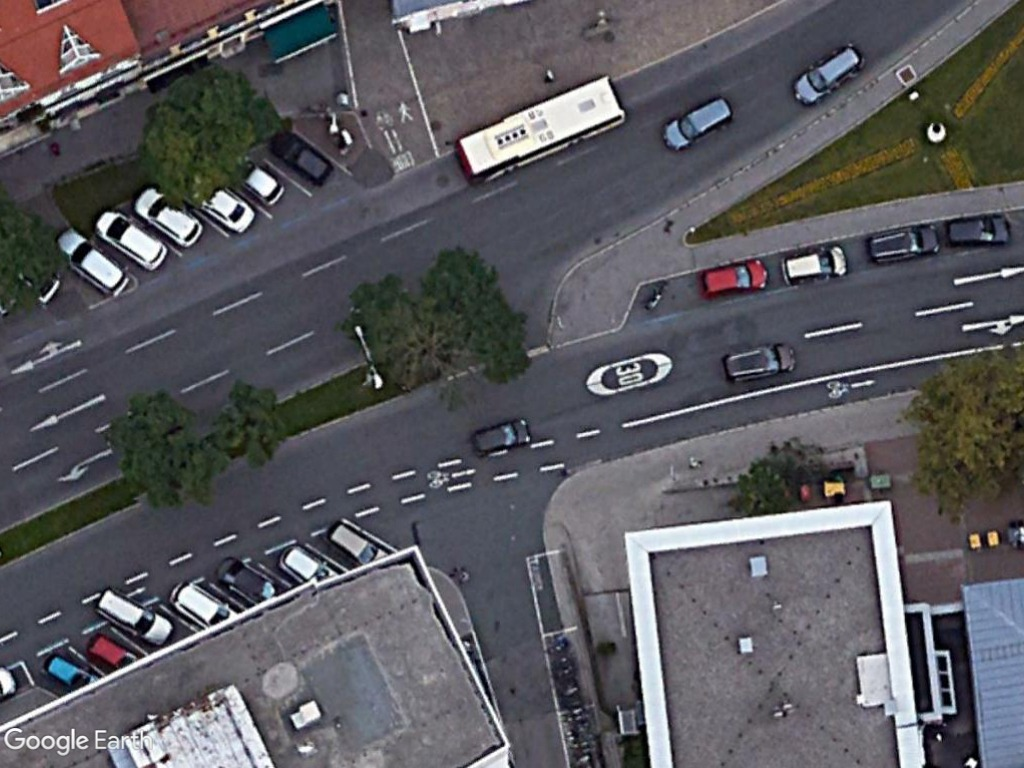bus: (449, 71, 627, 189)
car: (52, 224, 133, 300), (93, 585, 178, 651), (790, 40, 869, 109), (93, 210, 171, 273), (131, 186, 205, 247), (658, 94, 734, 153), (262, 131, 338, 189), (861, 218, 945, 270), (719, 338, 797, 388), (777, 241, 852, 289), (463, 412, 535, 462), (697, 257, 770, 299), (942, 213, 1015, 251)
